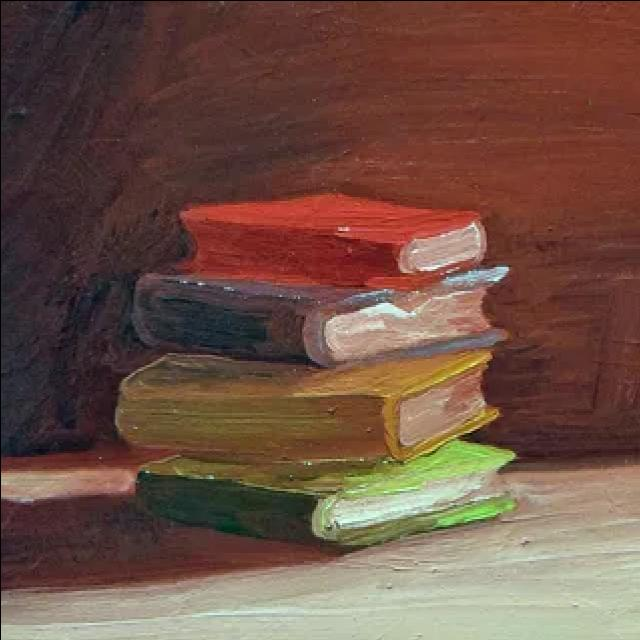book: (126, 432, 522, 550), (170, 188, 492, 292)
